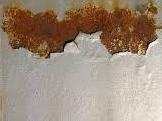Corrosion: (1, 1, 162, 60)
